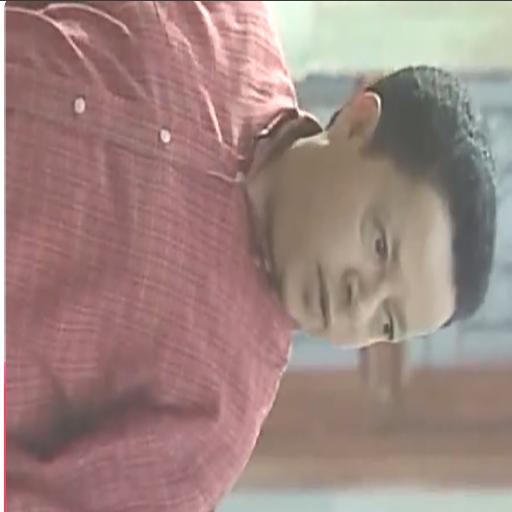fouchika: (270, 89, 494, 345)
